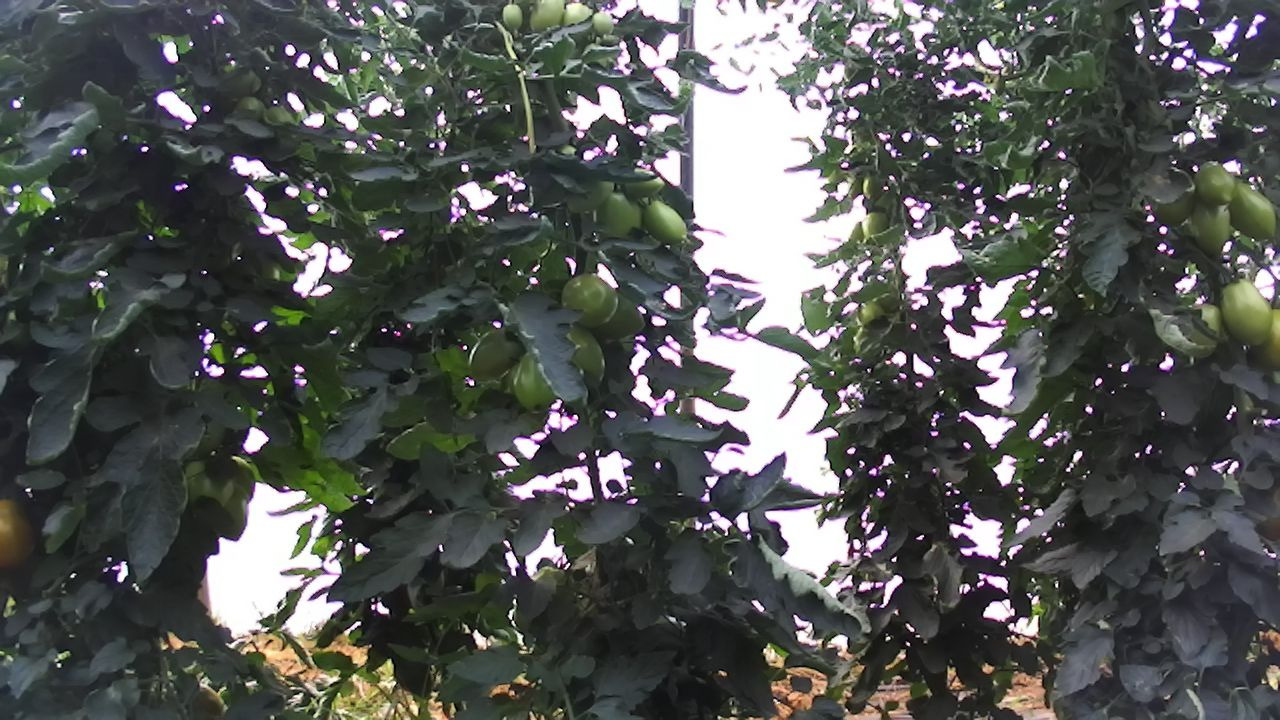tomato: (1212, 270, 1277, 351), (506, 348, 560, 423), (558, 268, 621, 331), (1227, 172, 1279, 245), (0, 490, 43, 576), (1185, 195, 1236, 260), (642, 197, 692, 247), (1192, 155, 1235, 208), (499, 1, 525, 33)
